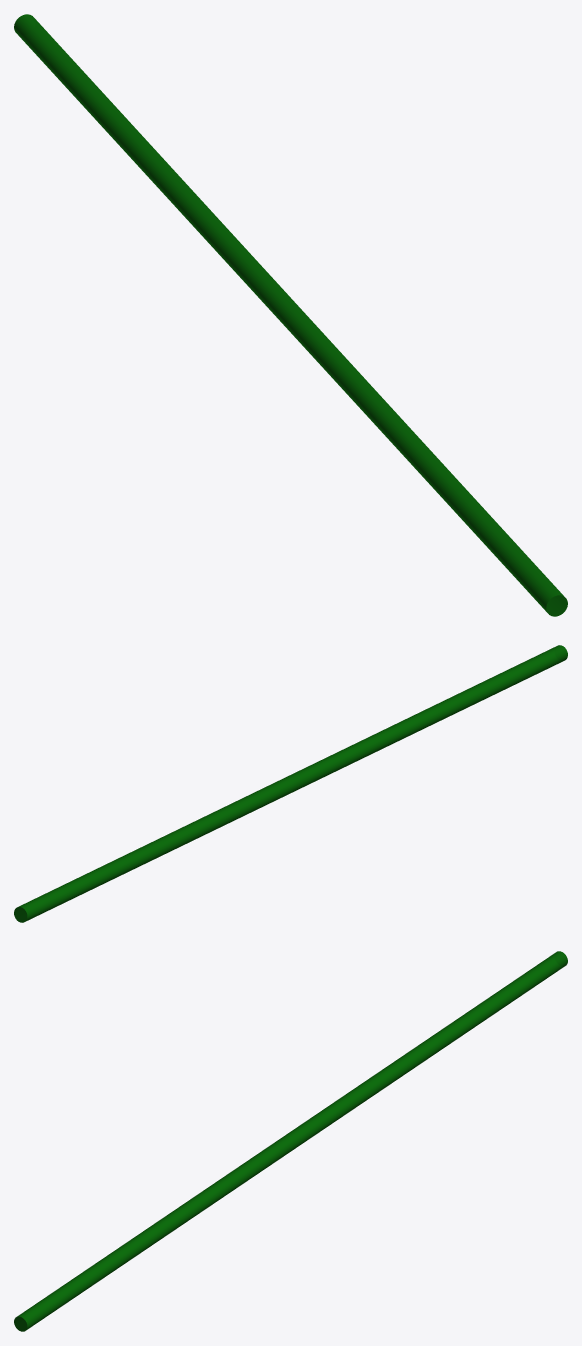
Rendered from Event_194851961_jet_1.fbx.
3 renders of one model, top to bottom at view 1: azimuth 30°, elevation 25°; view 2: azimuth 150°, elevation 25°; view 3: azimuth 330°, elevation 25°, orthographic. The views are drawn at different scales.
Visible parts, largest first — view 1: Model; view 2: Model; view 3: Model.
Boxes of the visible parts, <box> form: Model: <box>14,14,567,616</box>; Model: <box>14,645,567,922</box>; Model: <box>14,951,567,1331</box>.
Bounding box in the file's own units: 0.2727 × 0.177 × 2.19.
